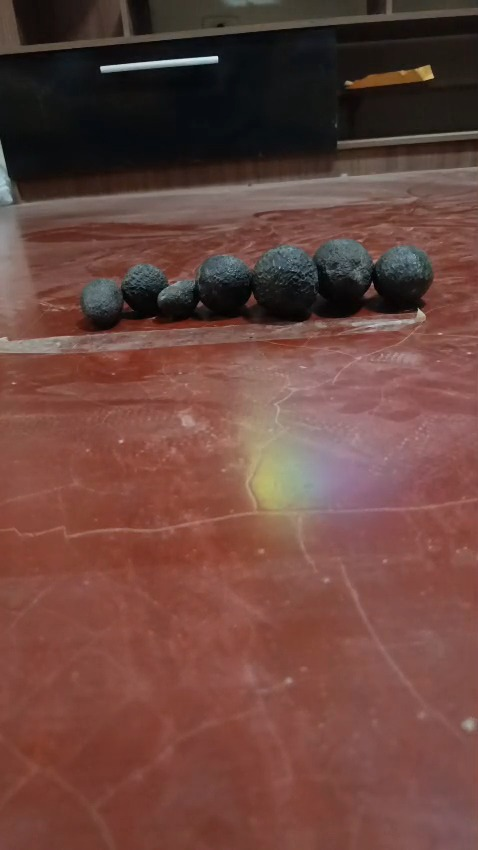Primera: (252, 245, 319, 319), (313, 238, 374, 309)
Segunda: (373, 245, 433, 308), (196, 253, 253, 315), (121, 262, 168, 314)
Tercera: (80, 278, 122, 328), (157, 279, 197, 320)
